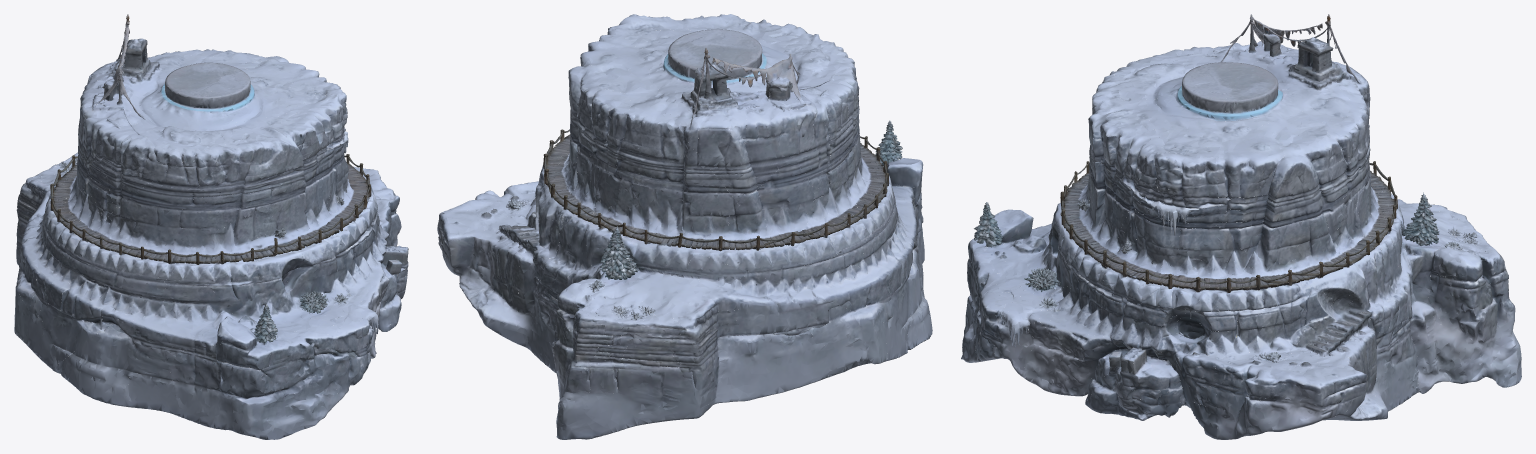
The model's file is tripo_peak_detail_lod.glb.
3 views of the same model, side by side, from view 1: azimuth 30°, elevation 25°; view 2: azimuth 150°, elevation 25°; view 3: azimuth 270°, elevation 25° (orthographic). The views are drawn at different scales.
Visible parts, largest first — view 1: tripo_node_bbb8bfb5-061f-4bde-8901-8471c6c09a24; view 2: tripo_node_bbb8bfb5-061f-4bde-8901-8471c6c09a24; view 3: tripo_node_bbb8bfb5-061f-4bde-8901-8471c6c09a24.
Part boxes in pixels (bbox=[...]): tripo_node_bbb8bfb5-061f-4bde-8901-8471c6c09a24: bbox=[14, 14, 408, 439]; tripo_node_bbb8bfb5-061f-4bde-8901-8471c6c09a24: bbox=[437, 14, 932, 439]; tripo_node_bbb8bfb5-061f-4bde-8901-8471c6c09a24: bbox=[961, 14, 1521, 439].
Bounding box in the file's own units: 0.8677 × 0.6656 × 0.9807.
1 material, 1 textured.
